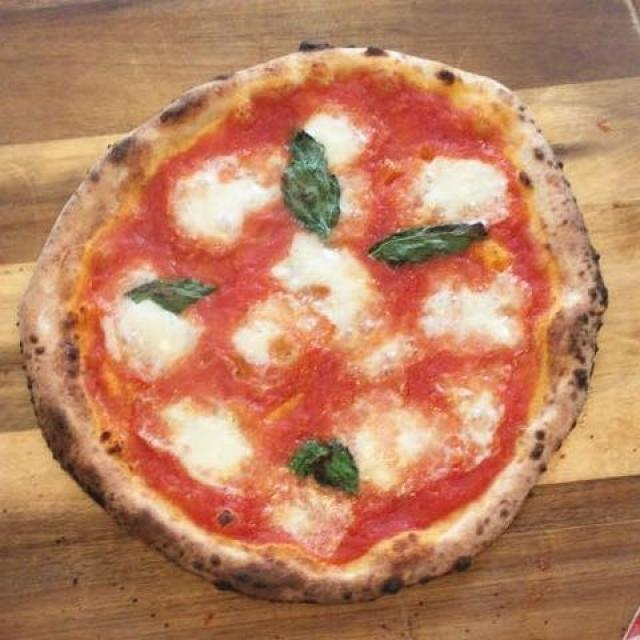pizza: (54, 53, 589, 585)
